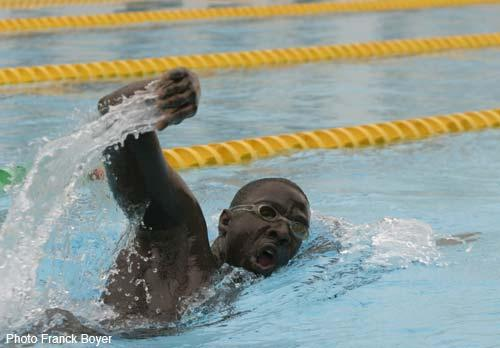human: (62, 64, 309, 340)
